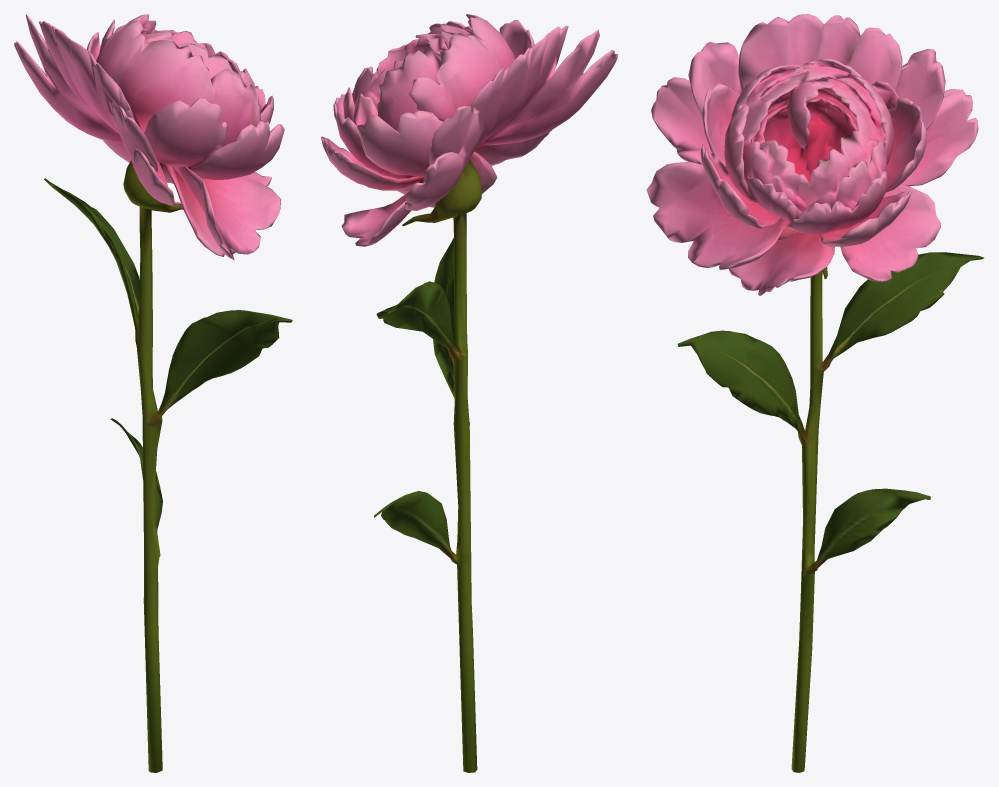
File: pink_peony.glb
3 views of the same model, side by side, from view 1: azimuth 30°, elevation 25°; view 2: azimuth 150°, elevation 25°; view 3: azimuth 270°, elevation 25° (orthographic). The views are drawn at different scales.
Parts seen in each view (by area): view 1: tripo_node_740fed77-4f2c-4496-8fc4-18da4ed68cd1; view 2: tripo_node_740fed77-4f2c-4496-8fc4-18da4ed68cd1; view 3: tripo_node_740fed77-4f2c-4496-8fc4-18da4ed68cd1.
Part boxes in pixels (x1,y1,x2,y2): tripo_node_740fed77-4f2c-4496-8fc4-18da4ed68cd1: [14, 14, 292, 772]; tripo_node_740fed77-4f2c-4496-8fc4-18da4ed68cd1: [321, 14, 617, 772]; tripo_node_740fed77-4f2c-4496-8fc4-18da4ed68cd1: [646, 14, 983, 772].
Bounding box in the file's own units: 0.2796 × 0.9998 × 0.4251.
Materials: 1 (1 with a texture image).
